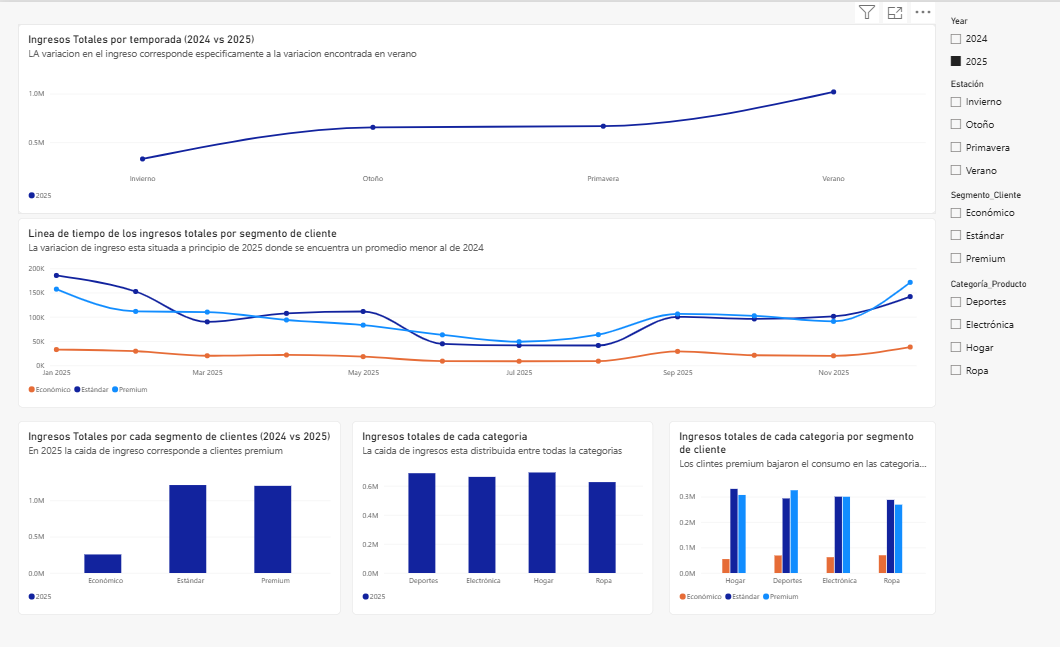

The page's visual inventory and layout, read from the dashboard file:
{"tool":"powerbi","page":{"name":"Detail View","canvas":[1920,1080],"ordinal":1},"visuals":[{"type":"slicer","fields":{"Values":["Andes_Retail_Group_2024_2025.Fecha_Pedido.Variation.Date Hierarchy.Year"]},"box":[1578.6,22.9,337.1,105.7],"z":0},{"type":"slicer","fields":{"Values":["Andes_Retail_Group_2024_2025.Estación"]},"box":[1578.6,128.6,337.1,170],"z":1000},{"type":"slicer","fields":{"Values":["Andes_Retail_Group_2024_2025.Segmento_Cliente"]},"box":[1578.6,312.9,217.1,148.6],"z":2000},{"type":"slicer","fields":{"Values":["Andes_Retail_Group_2024_2025.Categoría_Producto"]},"box":[1578.6,461.4,217.1,177.1],"z":3000},{"type":"clusteredColumnChart","title":"Ingresos Totales por cada segmento de clientes (2024 vs 2025)","fields":{"Category":["Andes_Retail_Group_2024_2025.Segmento_Cliente"],"Series":["Andes_Retail_Group_2024_2025.Fecha_Pedido.Variation.Date Hierarchy.Year"],"Y":["Sum(Andes_Retail_Group_2024_2025.Ingresos)"]},"box":[31.7,698.3,538.3,323.3],"z":4000},{"type":"clusteredColumnChart","title":"Ingresos totales de cada categoria","fields":{"Category":["Andes_Retail_Group_2024_2025.Categoría_Producto"],"Series":["Andes_Retail_Group_2024_2025.Fecha_Pedido.Variation.Date Hierarchy.Year"],"Y":["Sum(Andes_Retail_Group_2024_2025.Ingresos)"]},"box":[588.3,698.3,501.7,323.3],"z":5000},{"type":"lineChart","title":"Ingresos Totales por temporada (2024 vs 2025)","fields":{"Category":["Andes_Retail_Group_2024_2025.Estación"],"Series":["Andes_Retail_Group_2024_2025.Fecha_Pedido.Variation.Date Hierarchy.Year"],"Y":["Sum(Andes_Retail_Group_2024_2025.Ingresos)"]},"box":[31.4,37.1,1530,315.7],"z":6000},{"type":"lineChart","title":"Linea de tiempo de los ingresos totales por segmento de cliente","fields":{"Category":["Andes_Retail_Group_2024_2025.Fecha_Pedido.Variation.Date Hierarchy.Year","Andes_Retail_Group_2024_2025.Fecha_Pedido.Variation.Date Hierarchy.Month"],"Series":["Andes_Retail_Group_2024_2025.Segmento_Cliente"],"Y":["Sum(Andes_Retail_Group_2024_2025.Ingresos)"]},"box":[31.4,360,1530,315.7],"z":7000},{"type":"clusteredColumnChart","title":"Ingresos totales de cada categoria por segmento de cliente","fields":{"Category":["Andes_Retail_Group_2024_2025.Categoría_Producto"],"Series":["Andes_Retail_Group_2024_2025.Segmento_Cliente"],"Y":["Sum(Andes_Retail_Group_2024_2025.Ingresos)"]},"box":[1116.7,698.3,445,323.3],"z":8000}]}

Visuals, with their boxes on the page's 1920x1080 design canvas (x1, y1, x2, y2). These are canvas units, not pixel positions in the 1060x647 screenshot, which may show the page scaled, cropped or inside an application window:
slicer - Andes_Retail_Group_2024_2025.Fecha_Pedido.Variation.Date Hierarchy.Year: {"x1": 1579, "y1": 23, "x2": 1916, "y2": 129}
slicer - Andes_Retail_Group_2024_2025.Estación: {"x1": 1579, "y1": 129, "x2": 1916, "y2": 299}
slicer - Andes_Retail_Group_2024_2025.Segmento_Cliente: {"x1": 1579, "y1": 313, "x2": 1796, "y2": 462}
slicer - Andes_Retail_Group_2024_2025.Categoría_Producto: {"x1": 1579, "y1": 461, "x2": 1796, "y2": 638}
"Ingresos Totales por cada segmento de clientes (2024 vs 2025)" clusteredColumnChart: {"x1": 32, "y1": 698, "x2": 570, "y2": 1022}
"Ingresos totales de cada categoria" clusteredColumnChart: {"x1": 588, "y1": 698, "x2": 1090, "y2": 1022}
"Ingresos Totales por temporada (2024 vs 2025)" lineChart: {"x1": 31, "y1": 37, "x2": 1561, "y2": 353}
"Linea de tiempo de los ingresos totales por segmento de cliente" lineChart: {"x1": 31, "y1": 360, "x2": 1561, "y2": 676}
"Ingresos totales de cada categoria por segmento de cliente" clusteredColumnChart: {"x1": 1117, "y1": 698, "x2": 1562, "y2": 1022}
